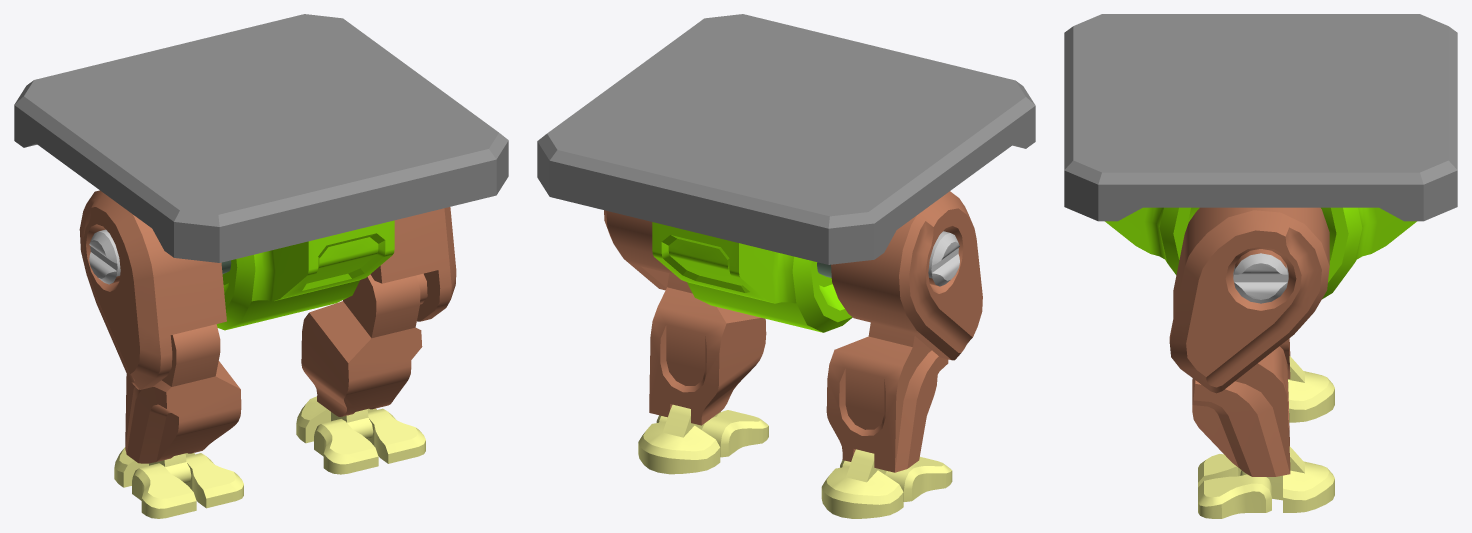
Rendered from Mecha.fbx.
3 views of the same model, side by side, from view 1: azimuth 30°, elevation 25°; view 2: azimuth 150°, elevation 25°; view 3: azimuth 270°, elevation 25° (orthographic).
Visible parts, largest first — view 1: Mecha; view 2: Mecha; view 3: Mecha.
Boxes of the visible parts, bbox=[...] form: Mecha: bbox=[14, 14, 508, 518]; Mecha: bbox=[537, 14, 1035, 518]; Mecha: bbox=[1064, 14, 1457, 518].
Bounding box in the file's own units: 100 × 100 × 100.
